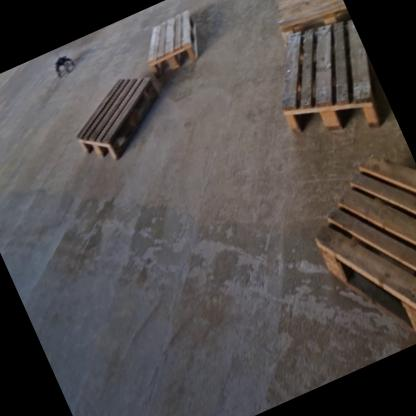BoxFace: (309, 147, 416, 336), (279, 15, 388, 138), (74, 73, 160, 165), (145, 3, 202, 80), (276, 0, 351, 34)
